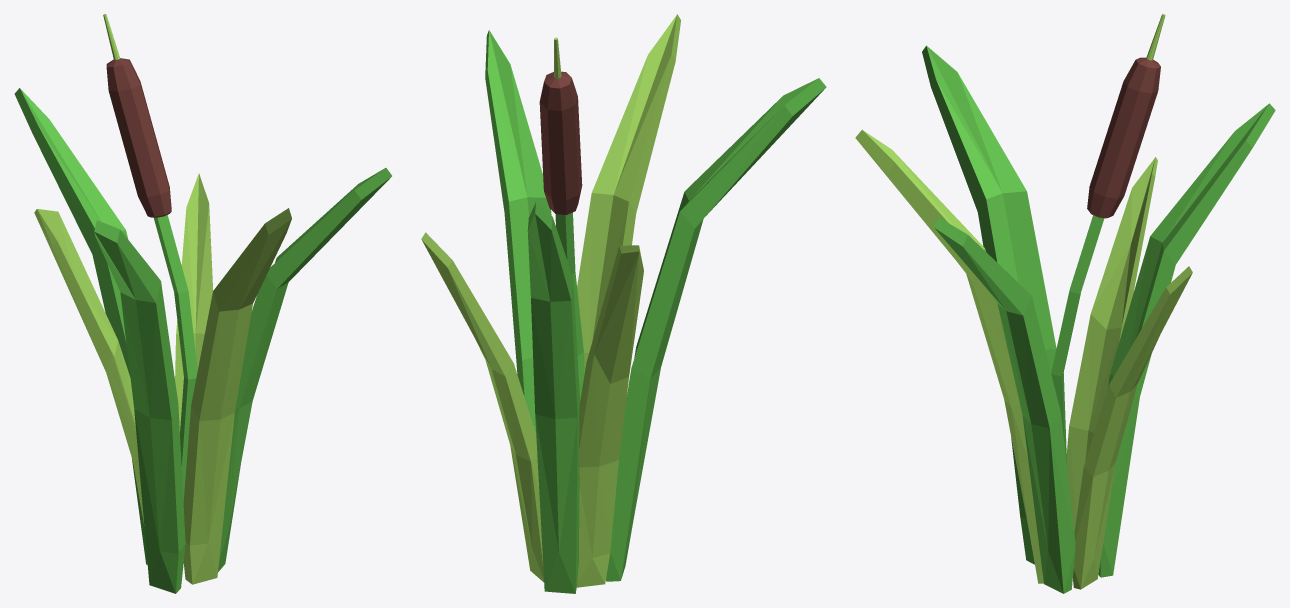
The model's file is Watter Battle 02.fbx.
3 views of the same model, side by side, from view 1: azimuth 30°, elevation 25°; view 2: azimuth 150°, elevation 25°; view 3: azimuth 270°, elevation 25° (orthographic). The views are drawn at different scales.
Visible parts, largest first — view 1: Watter Battle 02; view 2: Watter Battle 02; view 3: Watter Battle 02.
Part boxes in pixels (x1,y1,x2,y2): Watter Battle 02: (14, 14, 391, 593); Watter Battle 02: (421, 14, 826, 593); Watter Battle 02: (855, 14, 1275, 593).
Size of the model in its own units: 65.45 by 109 by 76.57.
